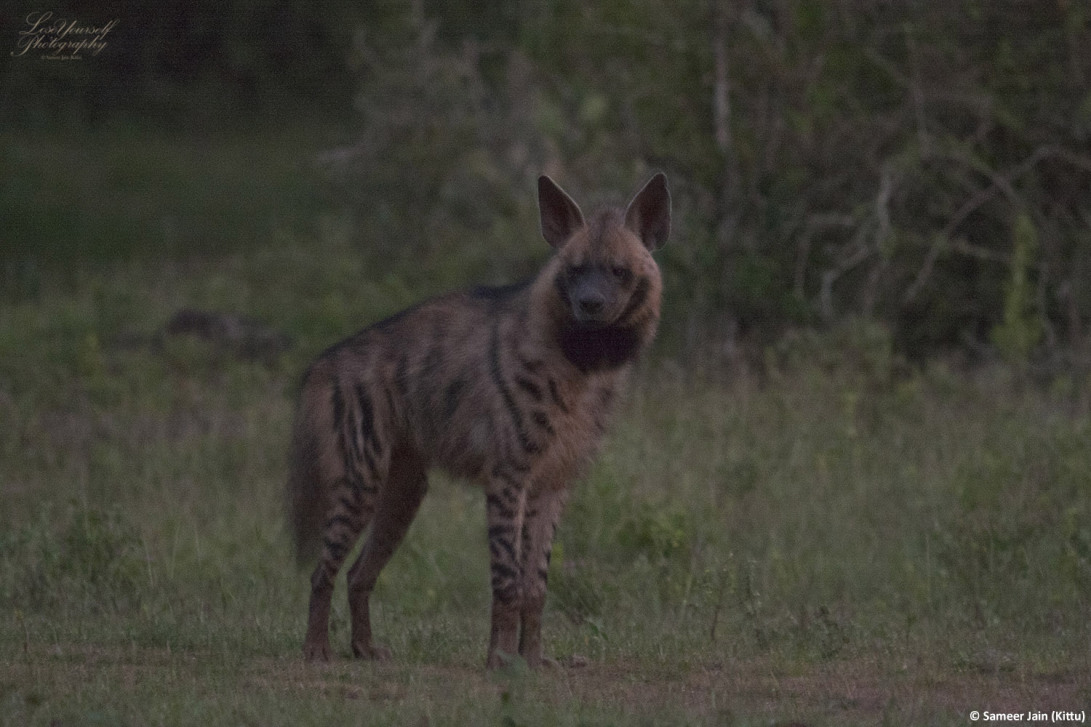hyena: (298, 179, 671, 669)
